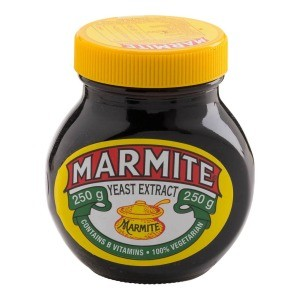yeast spread_brain food: (65, 100, 240, 228)
